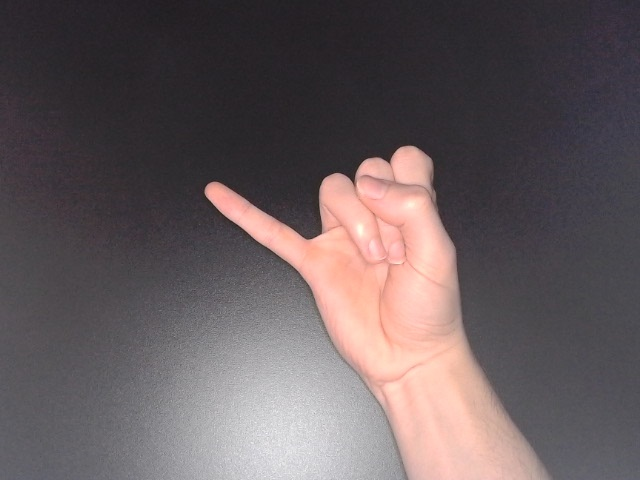j: (199, 142, 469, 398)
